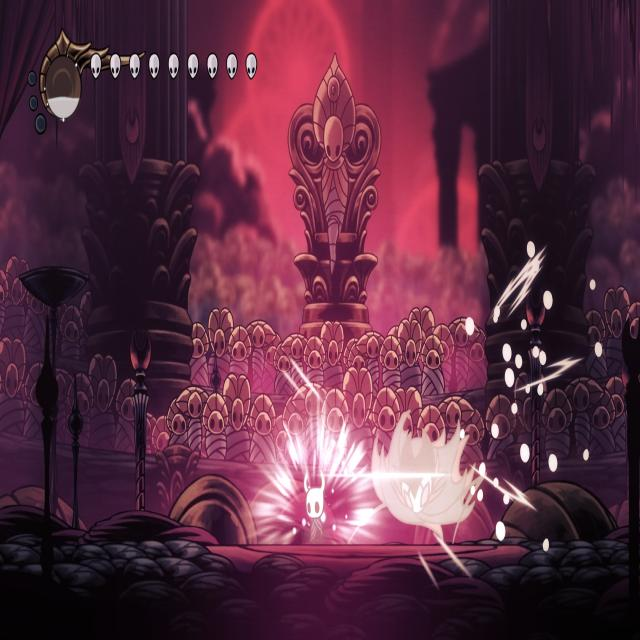Dash Uppercut: (350, 406, 488, 543)
Player: (299, 463, 329, 544)
